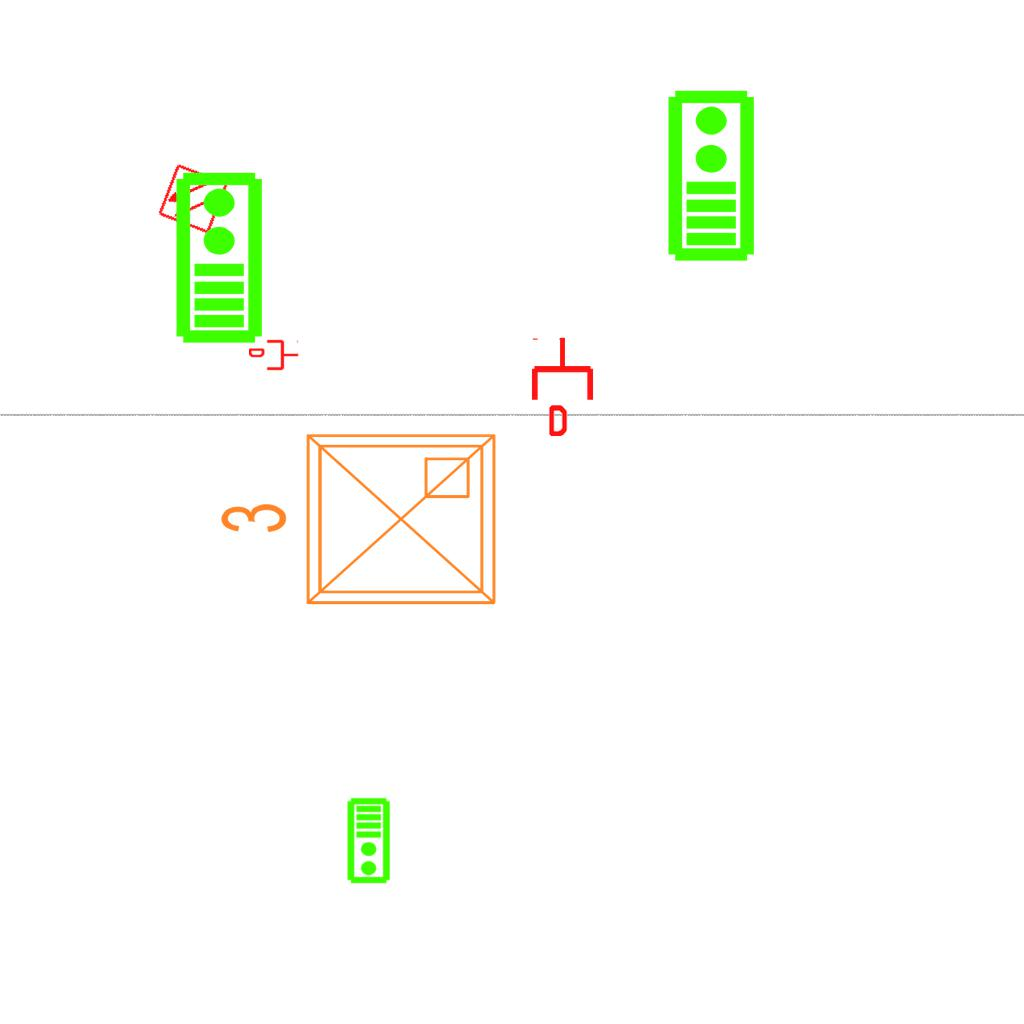Datenanschluss_einfach: (528, 336, 597, 436), (249, 338, 299, 372)
Einbaudownlights_LED_Konferenzraeume: (210, 419, 510, 627)
Gegensprechanlage_mit_Video: (662, 87, 757, 263), (170, 169, 265, 345), (346, 797, 393, 885)
RMO_Rauchmelder_optischer: (156, 162, 230, 236)
